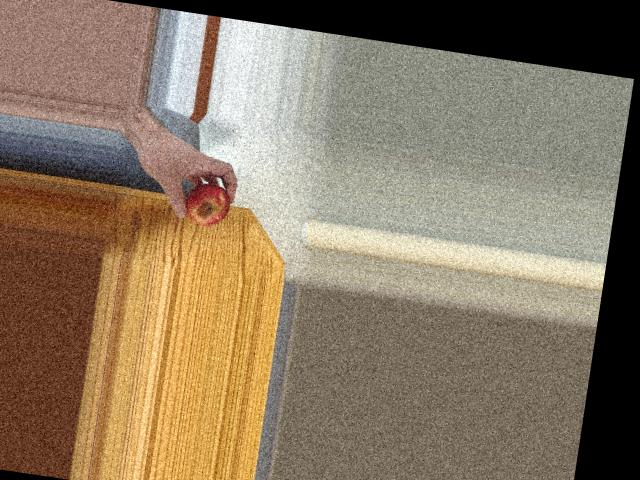apple: (175, 176, 234, 229)
